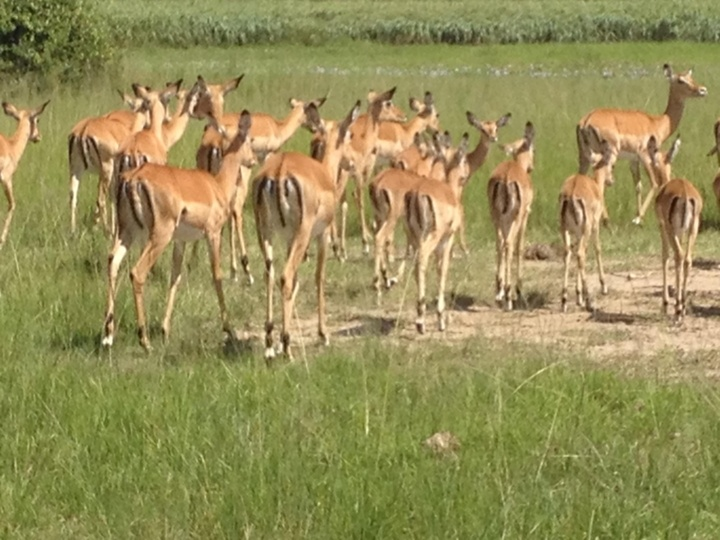impala: (91, 109, 259, 366), (254, 98, 363, 366), (568, 61, 709, 233), (406, 129, 475, 341), (550, 140, 630, 321), (641, 131, 711, 324), (481, 119, 544, 316)
